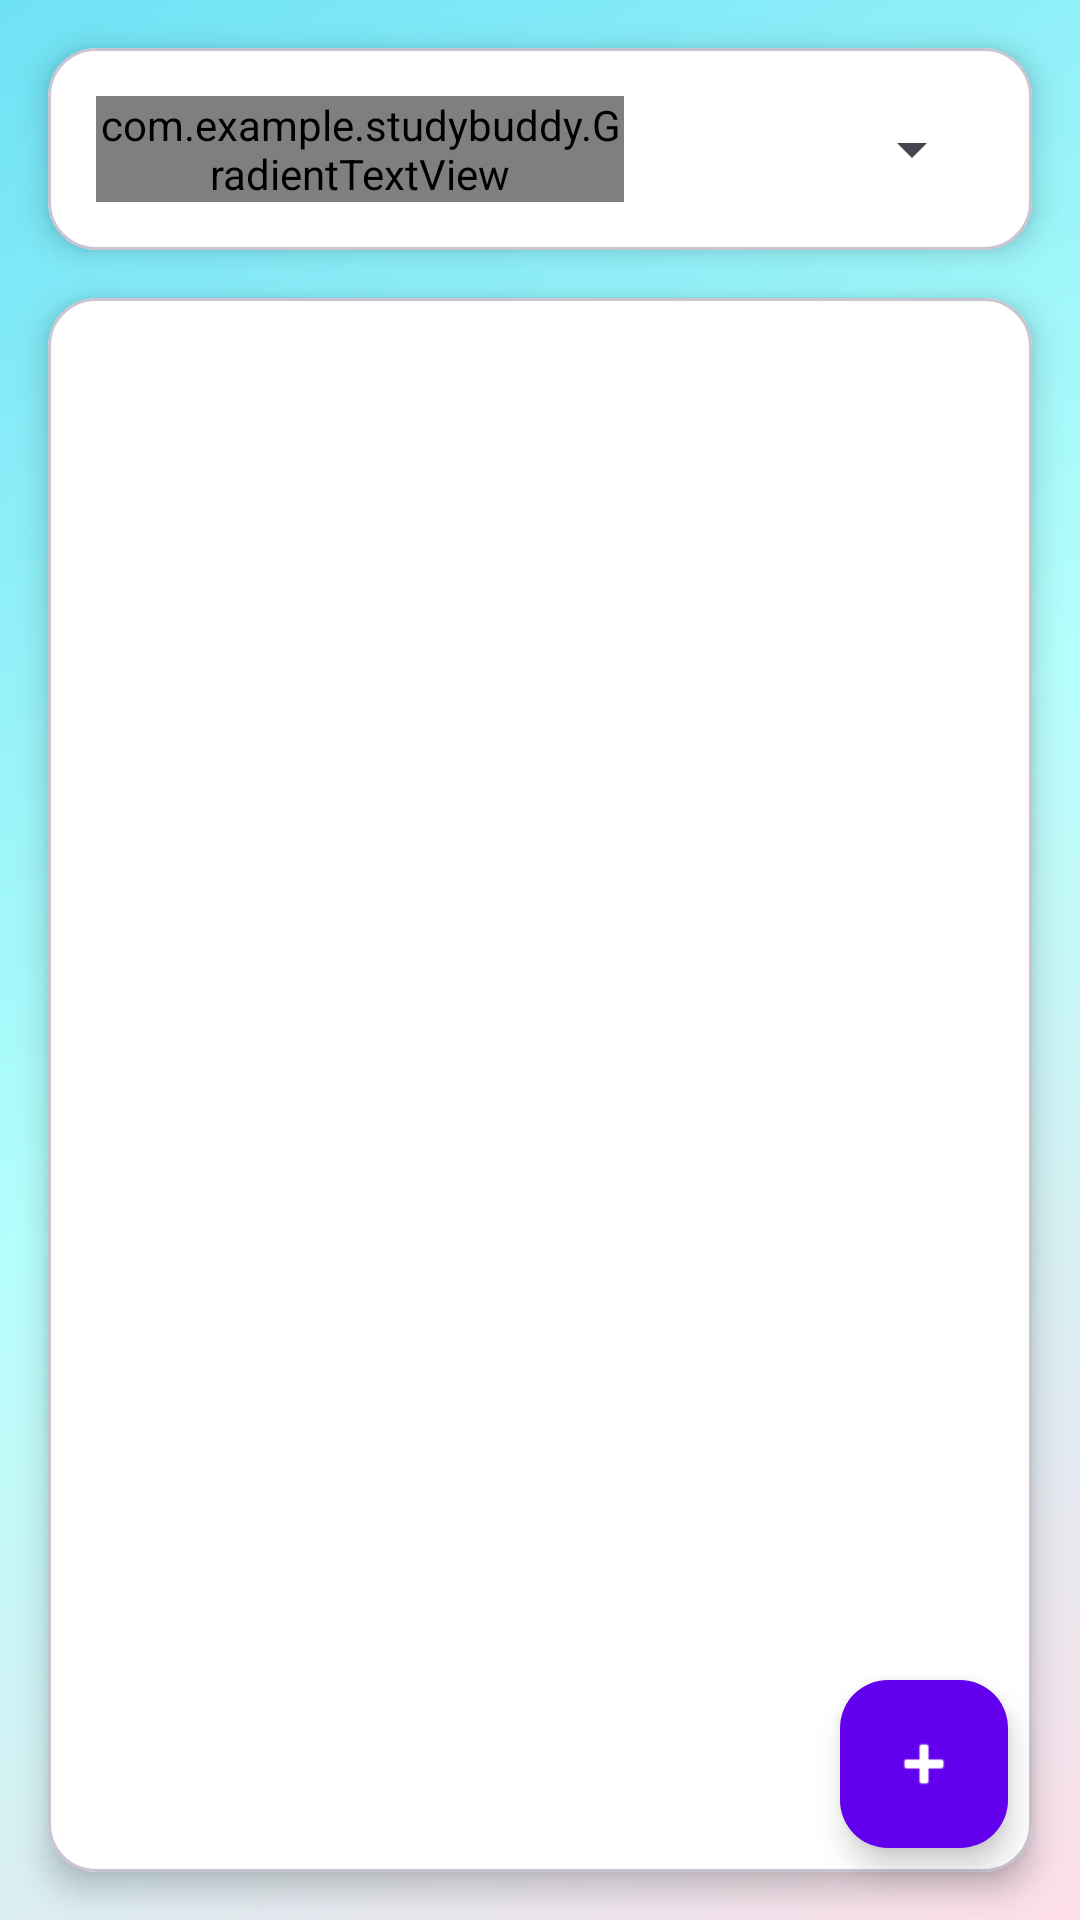

Named icons in this screenshot (1080 x 1920) and their centers, point (x, y):
Add new task: point (924, 1764)
